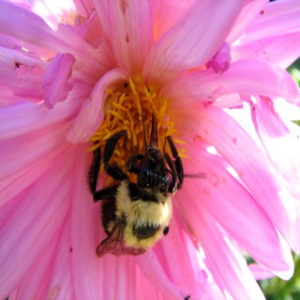bee: (84, 109, 189, 279)
